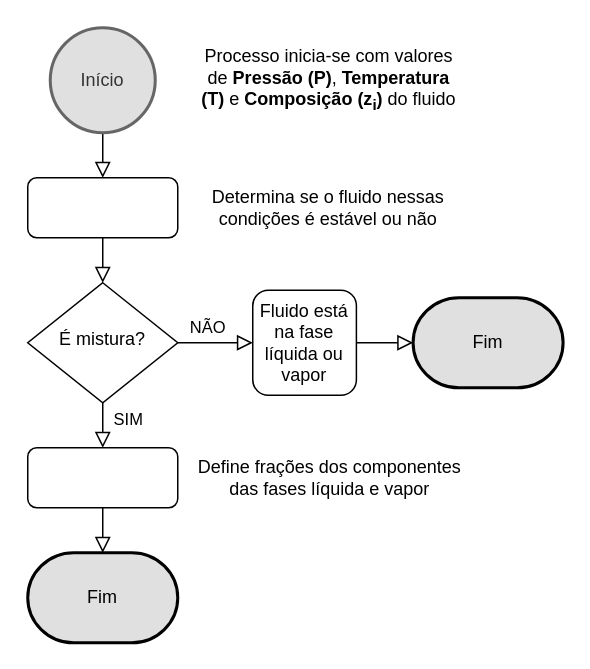
Some shapes in this 590 by 669 pixel diagram are drawn without their labels. Each missing label, with the centre of its shape:
"Cálculo de Flash" belongs at (x=102, y=477).
"Teste de Estabilidade" belongs at (x=102, y=207).
